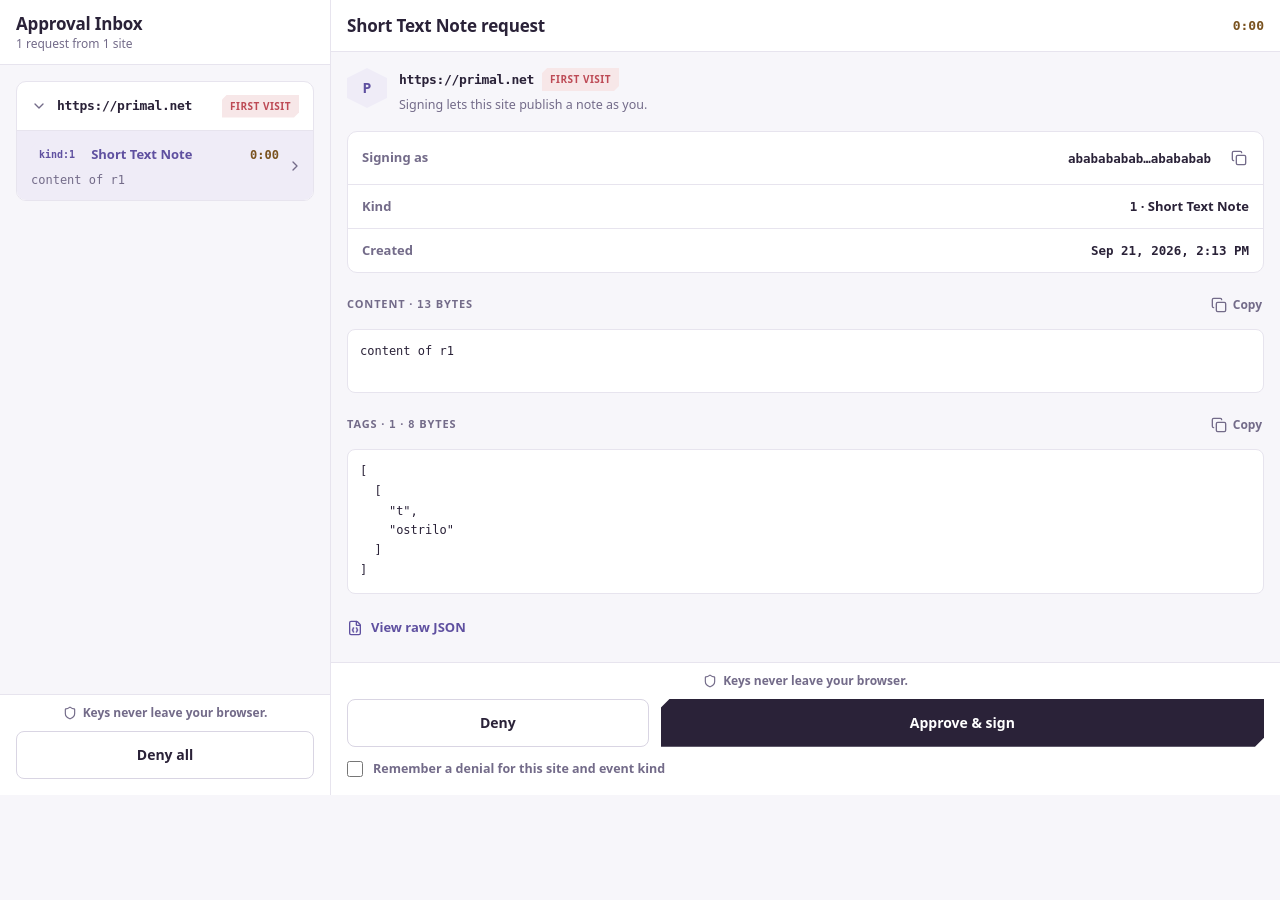
Test: ApprovalPrompt decisions › uses a generic message when a resolve fails without an Error
This screenshot has width=1280, height=900.
Step 1. Click the button "Deny" → (498, 723), box [347,699,649,747]
Wait 600 ms
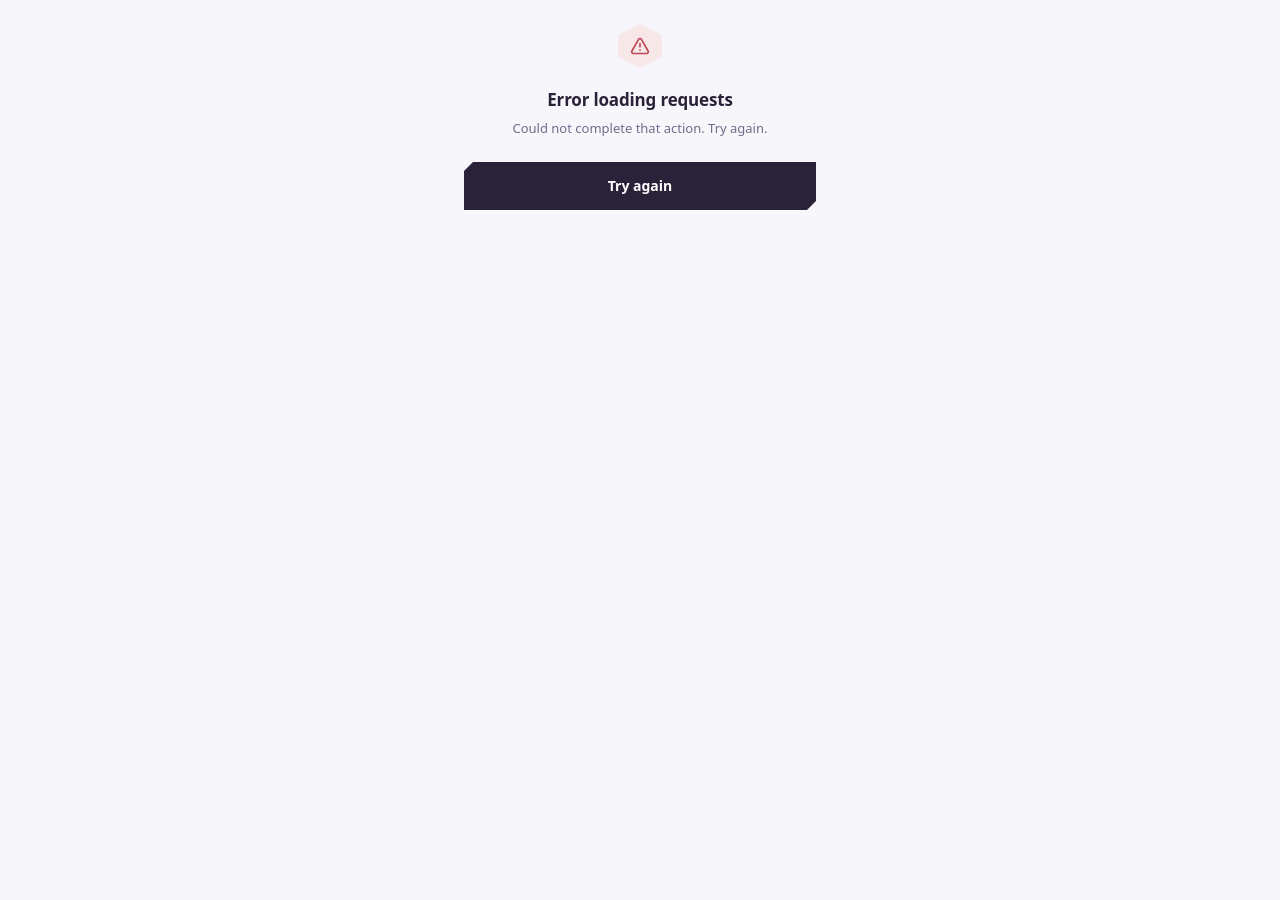
Result: the text "Could not complete that action. Try again." is shown at [512,118,768,138]
